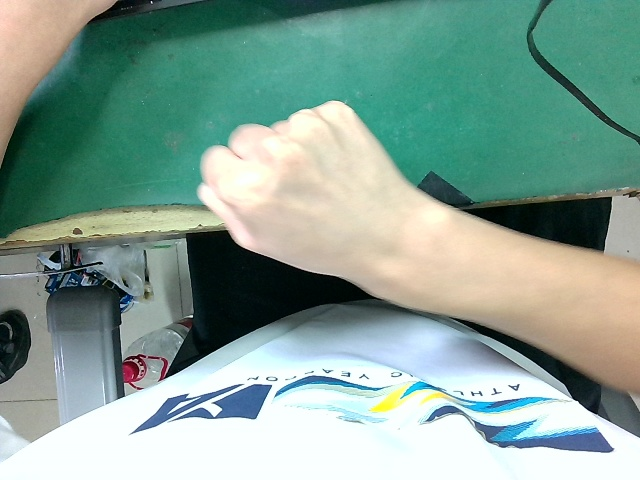stone: (192, 91, 417, 297)
